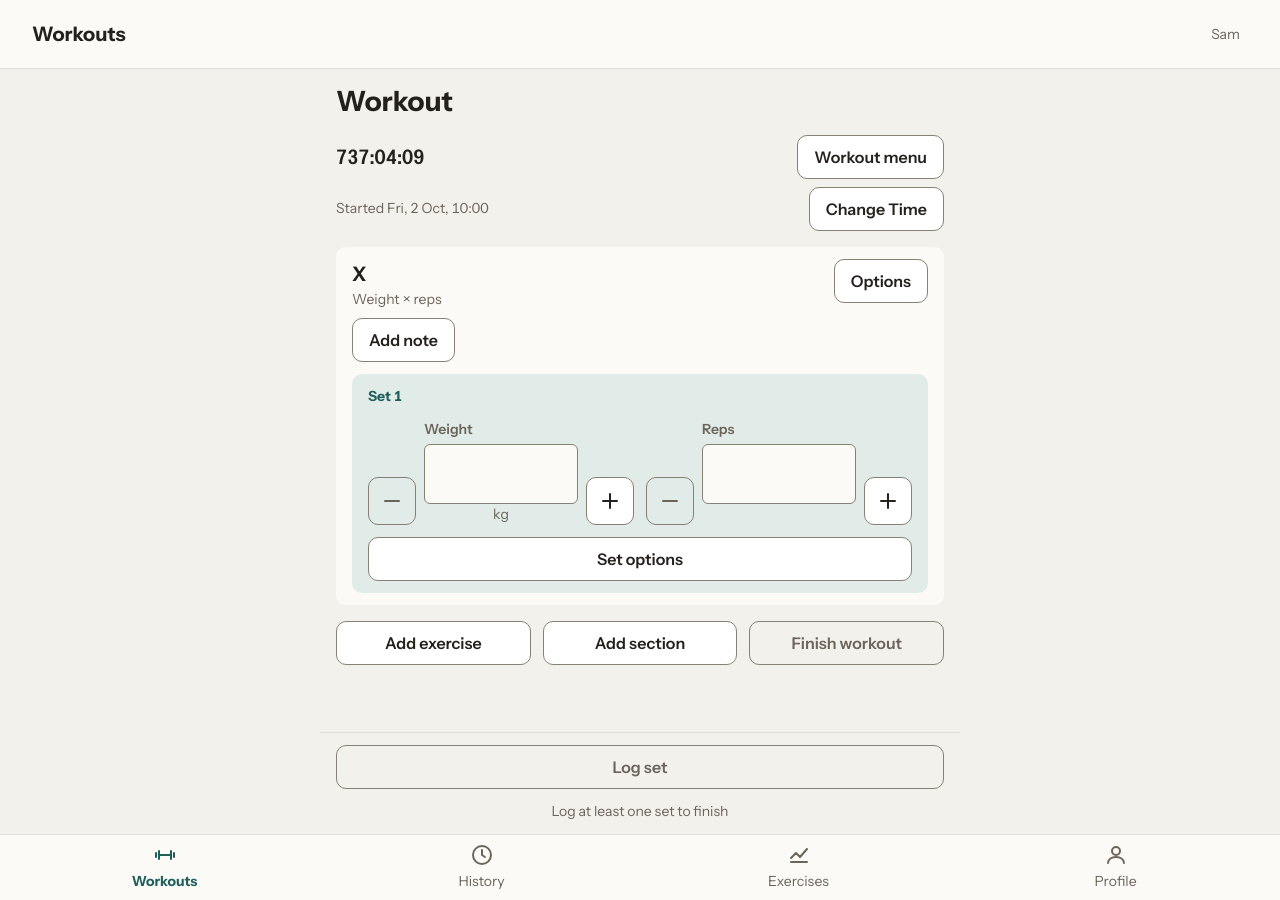
it: AC15 — /app/workouts states › a failed background refetch keeps the session on screen with its unlogged draft (final review C1)
Check: the heading "Workout" is shown, box [336,84,453,118]
In the field labelled "Weight": {"x": 501, "y": 474} [424,444,578,504], type "61"
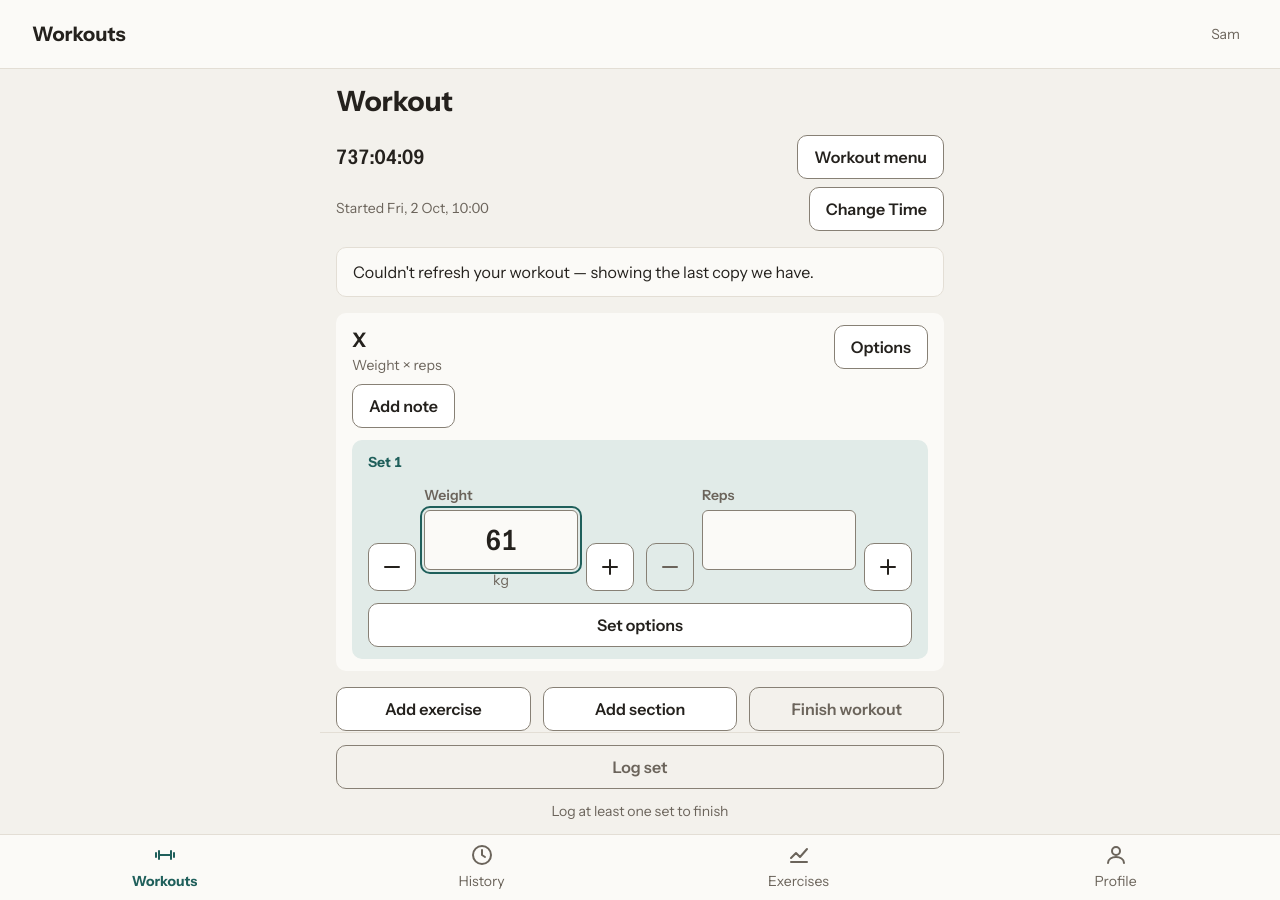
Check: the heading "Workout" is shown, box [336,84,453,118]
Check: the text "Couldn't refresh your workout" is shown, box [353,262,814,282]
